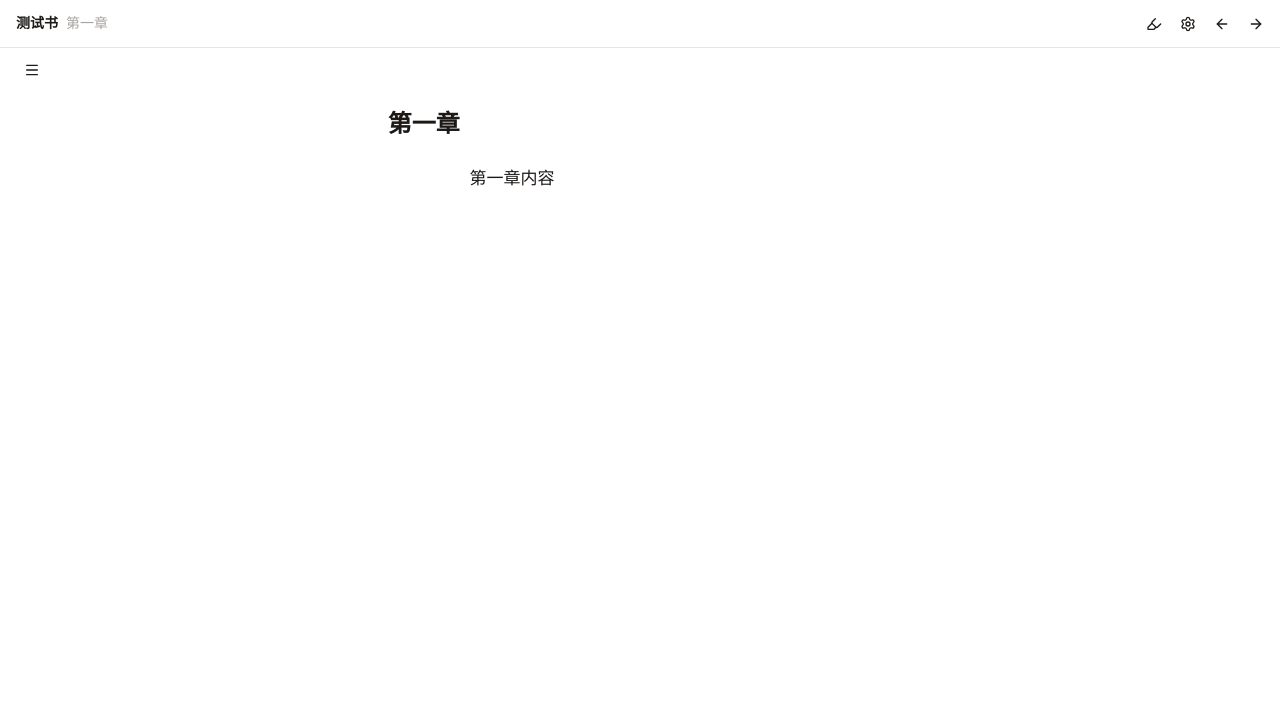
Test case: ReaderView › 排版面板：字号/行距/行宽步进 + 主题切换（class 与 CSS 变量落地）
Click the button titled "排版".
click(1188, 24)  # box [1172,10,1204,38]
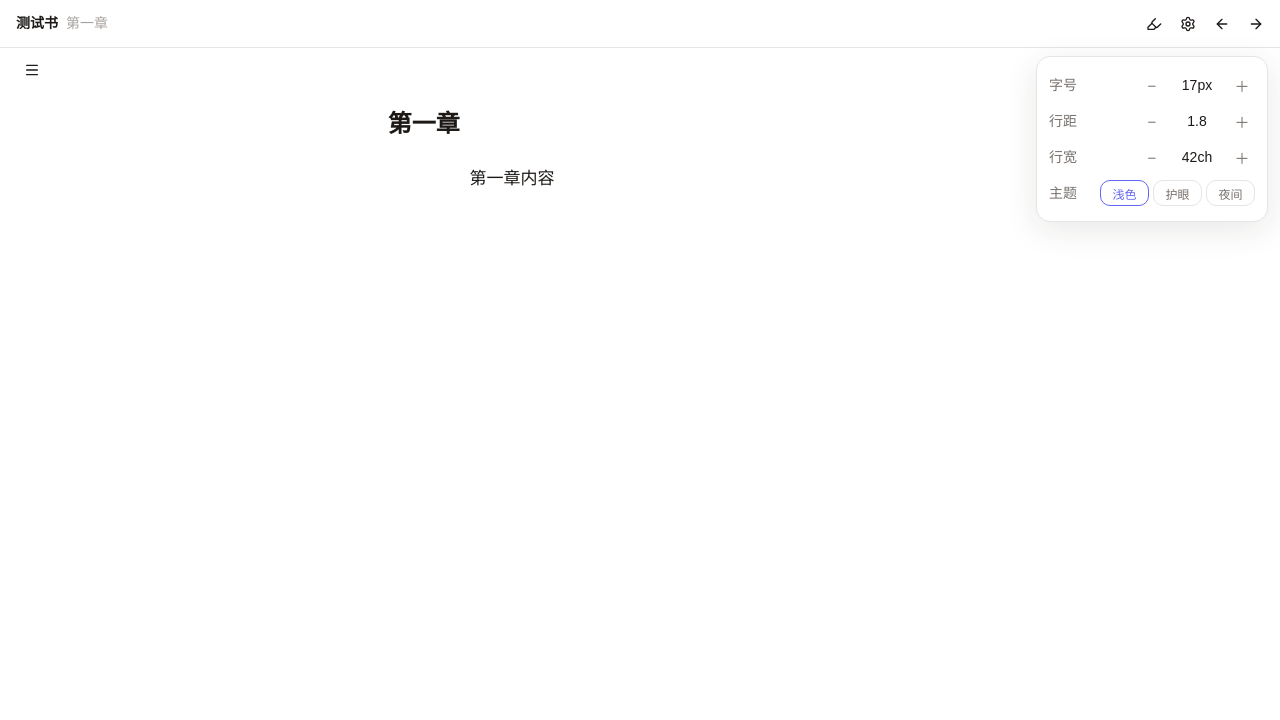
Check: the dialog with class "typography-panel" is shown, box [1036,56,1268,222]
Check: the text "17px" is shown, box [1182,77,1212,93]
Check: the text "42ch" is shown, box [1182,149,1212,165]
Click the button with class "step-btn" next to "17px".
click(1242, 85)  # box [1229,72,1255,98]
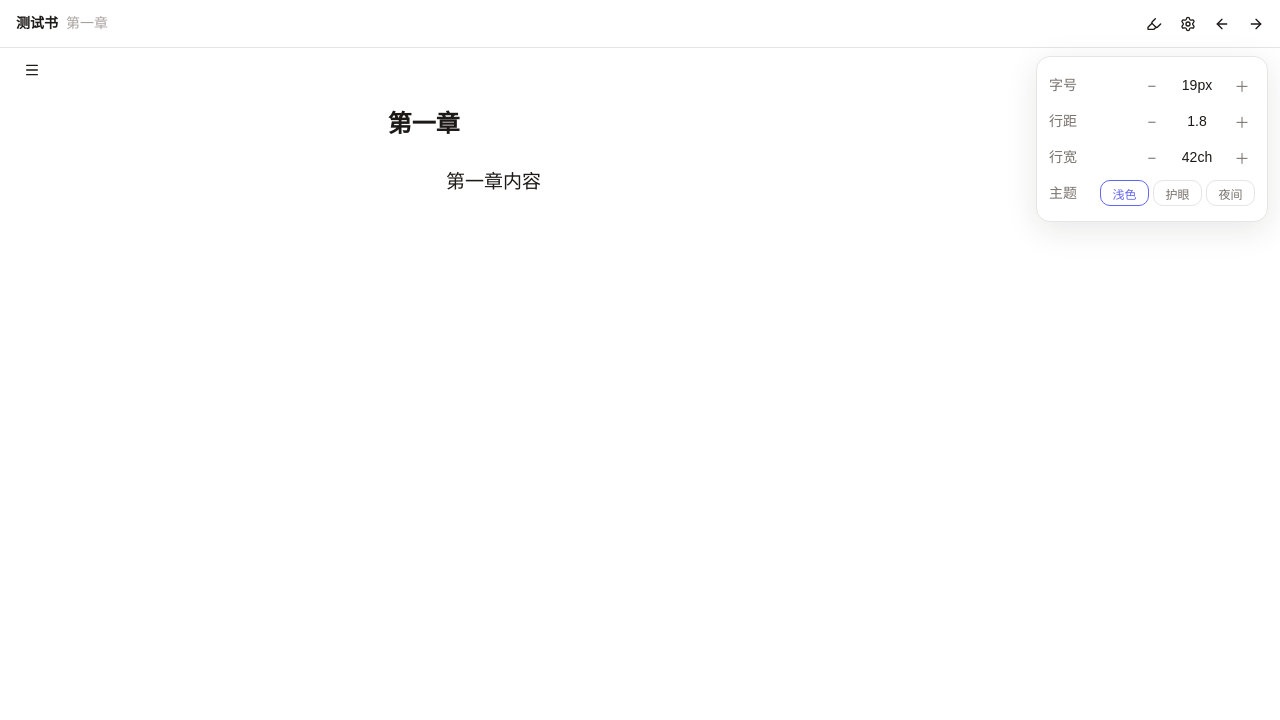
Check: the text "19px" is shown, box [1182,77,1212,93]
Click the button with class "theme-btn" showing "夜间".
click(1230, 193)  # box [1206,180,1255,206]
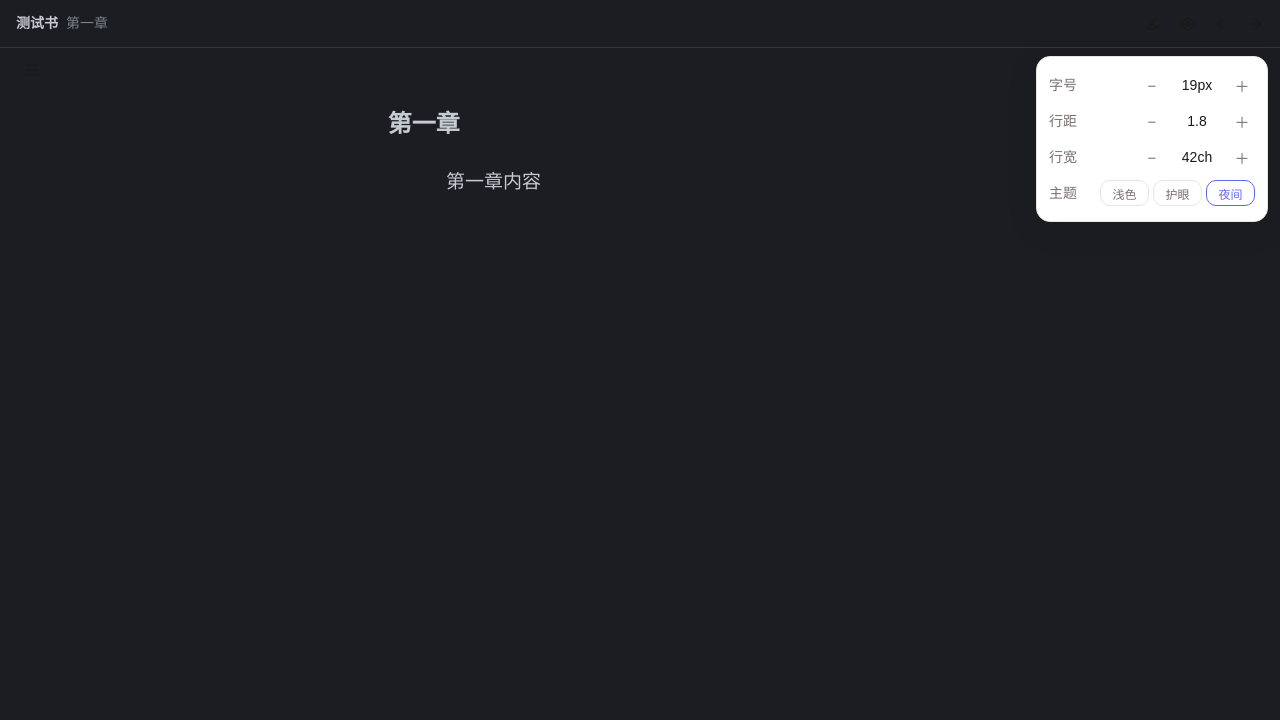
Check: the element with class "reader-window" has class "reader-theme-dark"
Press the mouse on the element that starts with "测试书" at (640, 360), box [0,0,1279,719]
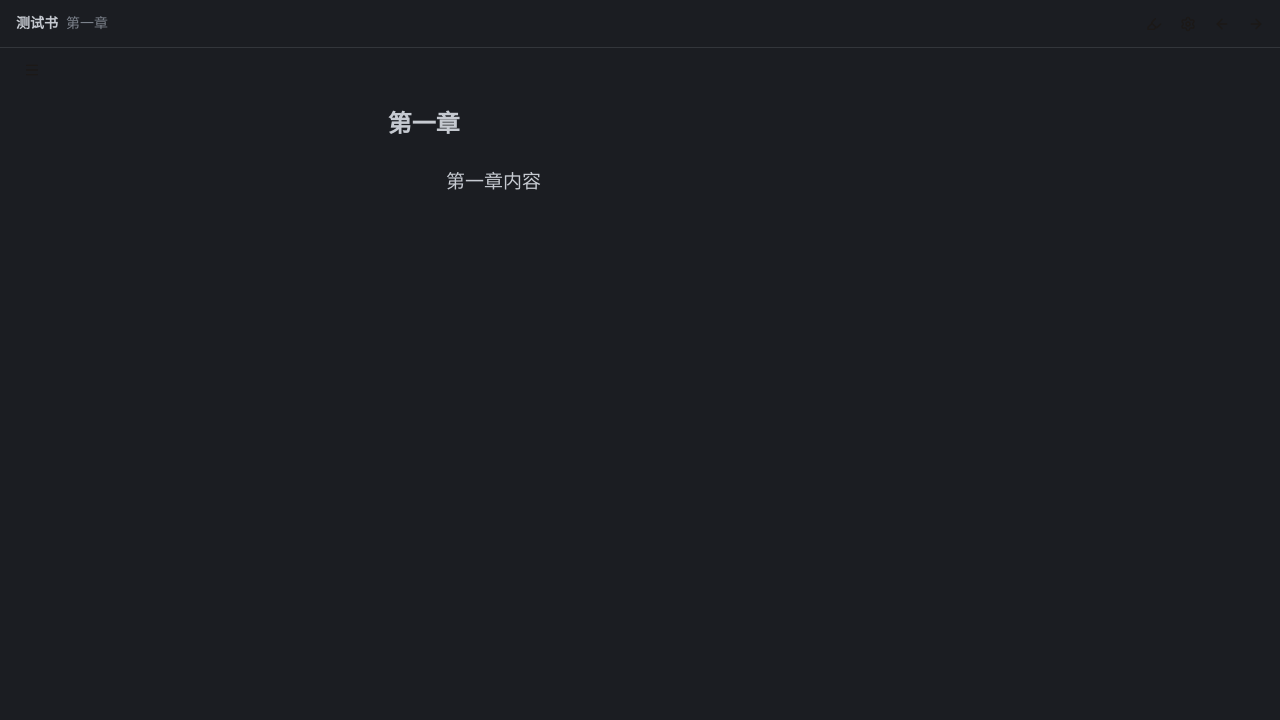
Check: the dialog with class "typography-panel" is gone
